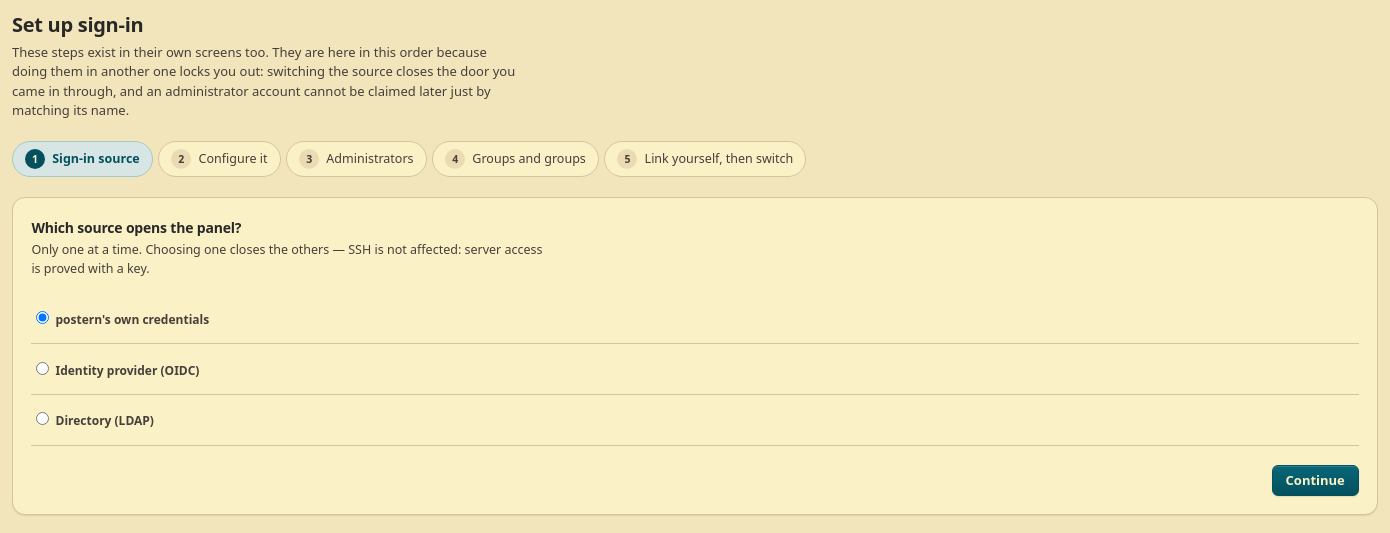
Scenario: kurulum sihirbazi › yerel modda esleme ve otomatik acilis gosterilmez
Check: the heading "Which source opens the panel?" is shown, box [31,218,241,237]
Click the radio button labelled "postern's own credentials": {"x": 43, "y": 317} [36,311,49,324]
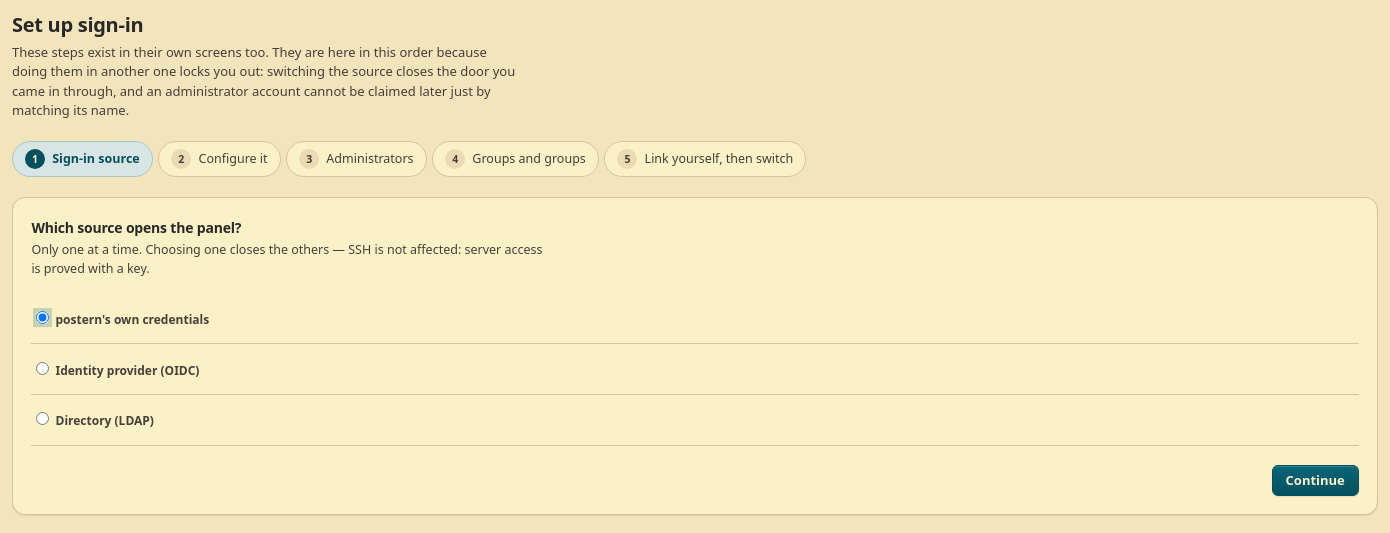
Click the button "4 Groups and groups": {"x": 516, "y": 159} [432,141,599,177]
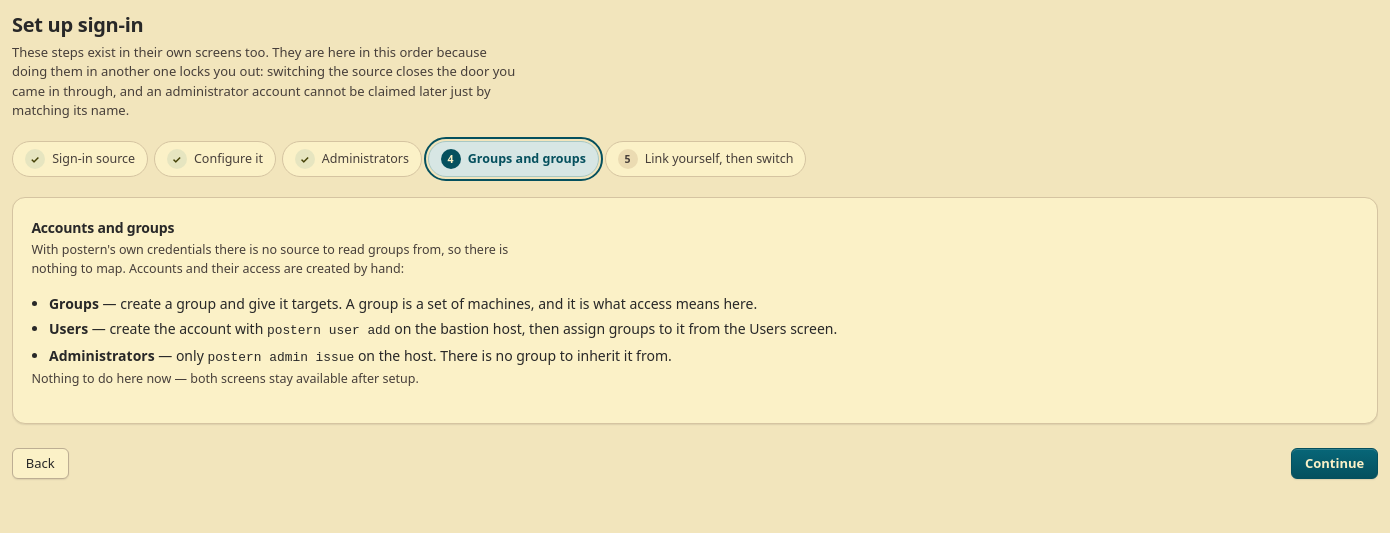
Check: the text "there is nothing to map" is shown, box [31,241,508,277]
Check: the text "postern user add" is shown, box [267,323,390,338]
